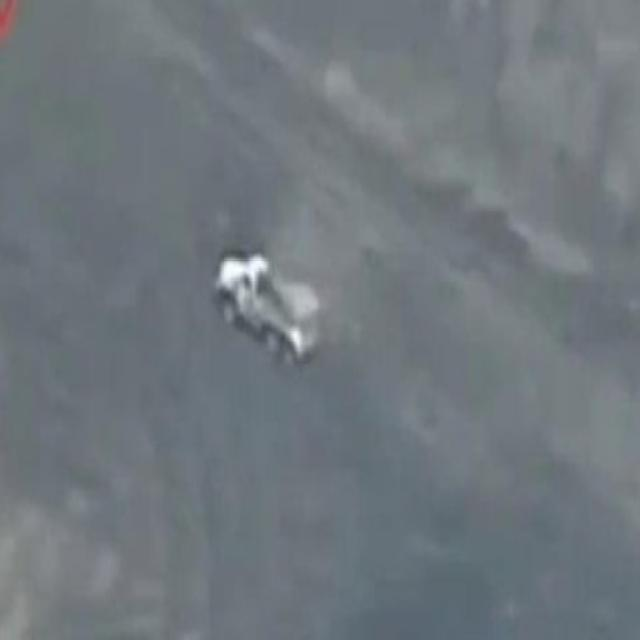MLRS: (212, 240, 320, 369)
